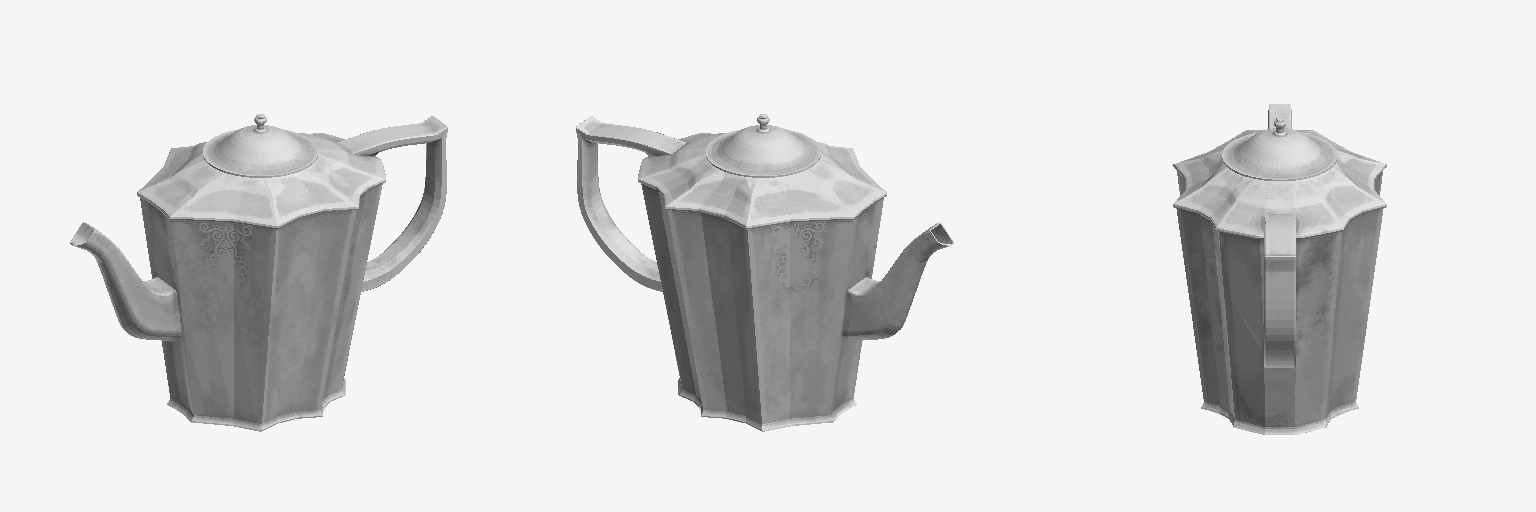
3 renders of one model, left to right at view 1: azimuth 30°, elevation 25°; view 2: azimuth 150°, elevation 25°; view 3: azimuth 270°, elevation 25°, orthographic.
Visible parts, largest first — view 1: TeapotSilver001.001, TeapotSilver001_lid.001; view 2: TeapotSilver001.001, TeapotSilver001_lid.001; view 3: TeapotSilver001.001, TeapotSilver001_lid.001.
Part boxes in pixels (bbox=[...]): TeapotSilver001.001: bbox=[70, 116, 447, 431]; TeapotSilver001_lid.001: bbox=[203, 114, 317, 177]; TeapotSilver001.001: bbox=[576, 116, 953, 431]; TeapotSilver001_lid.001: bbox=[706, 114, 820, 177]; TeapotSilver001.001: bbox=[1173, 104, 1386, 434]; TeapotSilver001_lid.001: bbox=[1222, 117, 1337, 180].
Size of the model in its own units: 0.3464 by 0.2507 by 0.174.
1 materials, 1 textured.